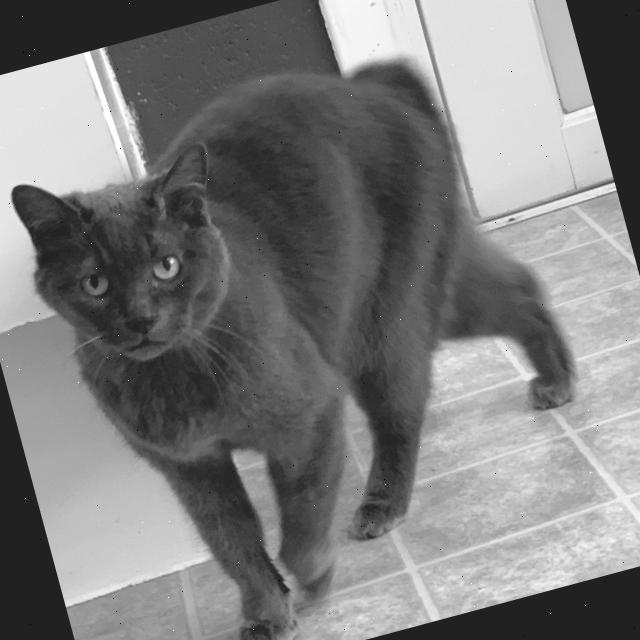manx_cat: (0, 117, 276, 407)
